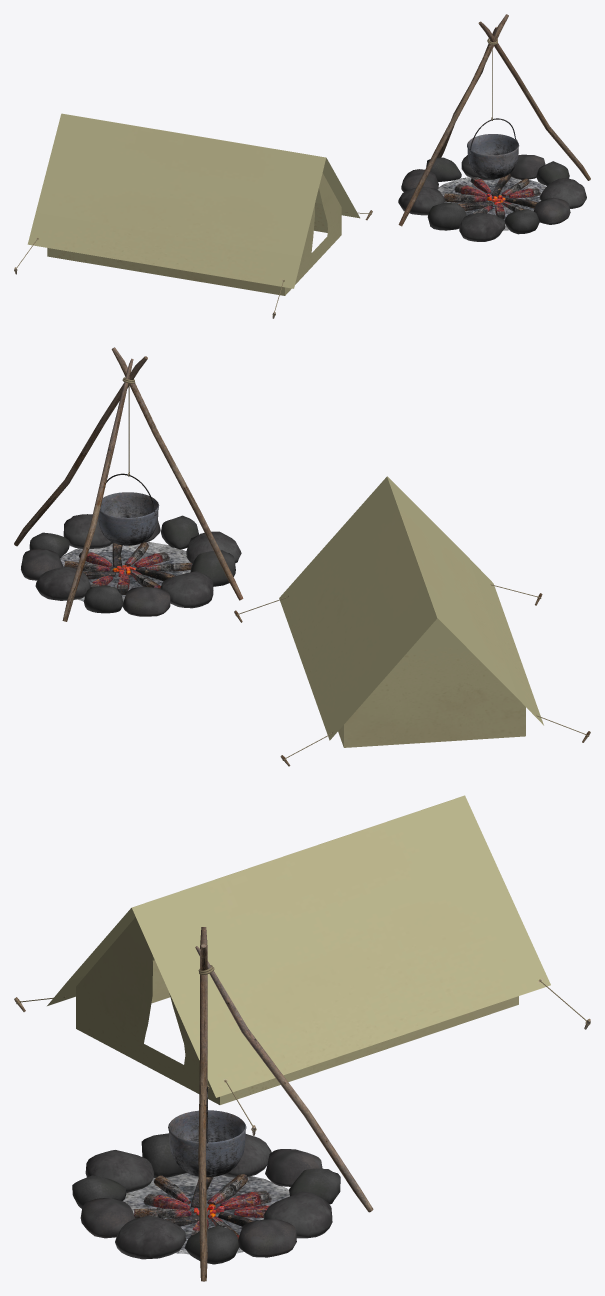
File: Campfire OBJ.obj
The picture shows the model from 3 angles, top to bottom: view 1: azimuth 30°, elevation 25°; view 2: azimuth 150°, elevation 25°; view 3: azimuth 270°, elevation 25°; orthographic projection. The views are drawn at different scales.
Visible parts, largest first — view 1: camp Camp Camp_Fire, Camp_Fire Fire_Woods Rocks, Camp_Fire woods_and_ground Fire_Woods, Camp_Fire Fire_Woods utensil_and_rope; view 2: camp Camp Camp_Fire, Camp_Fire Fire_Woods Rocks, Camp_Fire woods_and_ground Fire_Woods, Camp_Fire Fire_Woods utensil_and_rope; view 3: camp Camp Camp_Fire, Camp_Fire Fire_Woods Rocks, Camp_Fire woods_and_ground Fire_Woods, Camp_Fire Fire_Woods utensil_and_rope.
Part boxes in pixels (left/top/right/bottom): camp Camp Camp_Fire: left=27, top=113, right=359, bottom=295; Camp_Fire Fire_Woods Rocks: left=398, top=154, right=586, bottom=241; Camp_Fire woods_and_ground Fire_Woods: left=398, top=14, right=590, bottom=230; Camp_Fire Fire_Woods utensil_and_rope: left=467, top=38, right=519, bottom=178; camp Camp Camp_Fire: left=279, top=476, right=543, bottom=747; Camp_Fire Fire_Woods Rocks: left=21, top=514, right=241, bottom=616; Camp_Fire woods_and_ground Fire_Woods: left=14, top=347, right=243, bottom=621; Camp_Fire Fire_Woods utensil_and_rope: left=98, top=377, right=159, bottom=545; camp Camp Camp_Fire: left=47, top=795, right=550, bottom=1104; Camp_Fire Fire_Woods Rocks: left=72, top=1133, right=340, bottom=1264; Camp_Fire woods_and_ground Fire_Woods: left=123, top=927, right=373, bottom=1281; Camp_Fire Fire_Woods utensil_and_rope: left=168, top=965, right=246, bottom=1177.
Size of what is drawn, in the model's own units: 67.85 by 23.37 by 42.77.
